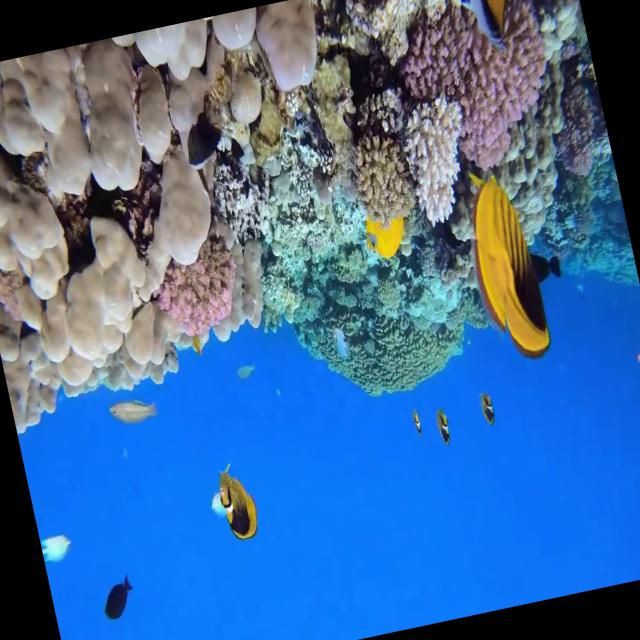fish: (453, 163, 554, 364), (203, 461, 265, 551), (451, 0, 518, 50), (359, 204, 408, 262), (102, 388, 159, 434), (97, 570, 139, 624), (39, 532, 74, 566), (474, 388, 500, 429), (432, 402, 454, 450)
